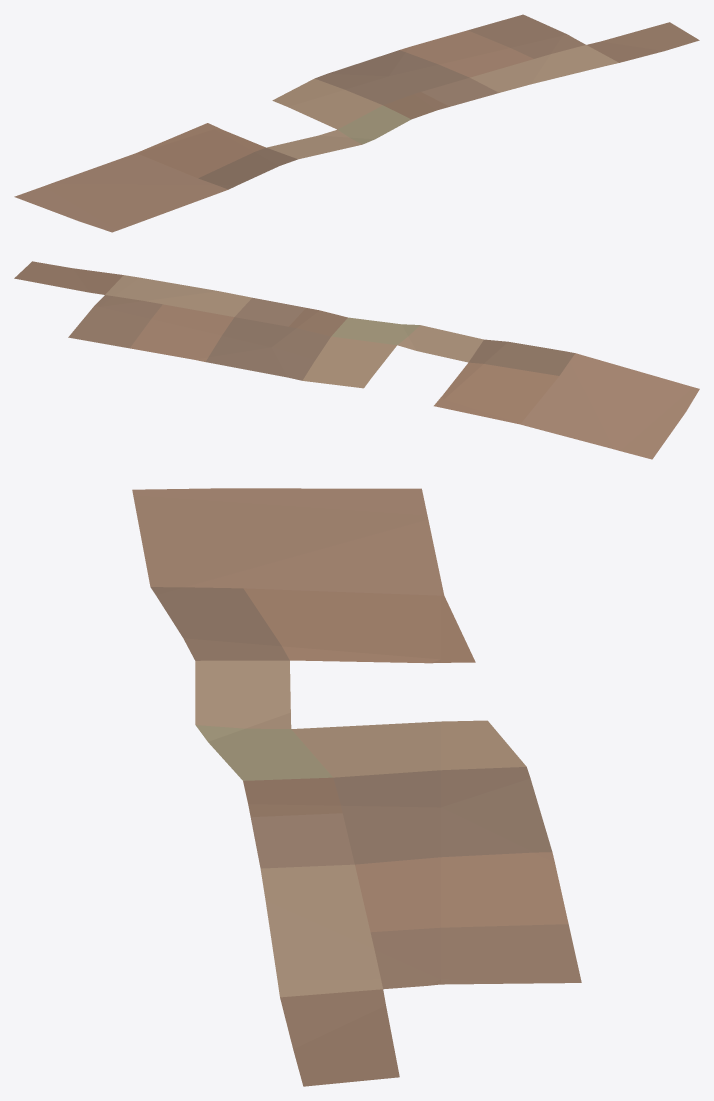
The model's file is farm_28_19_soil.glb.
The picture shows the model from 3 angles, top to bottom: view 1: azimuth 30°, elevation 25°; view 2: azimuth 150°, elevation 25°; view 3: azimuth 270°, elevation 25°; orthographic projection. The views are drawn at different scales.
Parts seen in each view (by area): view 1: geometry_0; view 2: geometry_0; view 3: geometry_0.
Boxes of the visible parts, x1=… form: geometry_0: x1=14, y1=14, x2=699, y2=232; geometry_0: x1=14, y1=261, x2=699, y2=459; geometry_0: x1=132, y1=488, x2=581, y2=1086.
Bounding box in the file's own units: 301 × 11.43 × 90.35.
